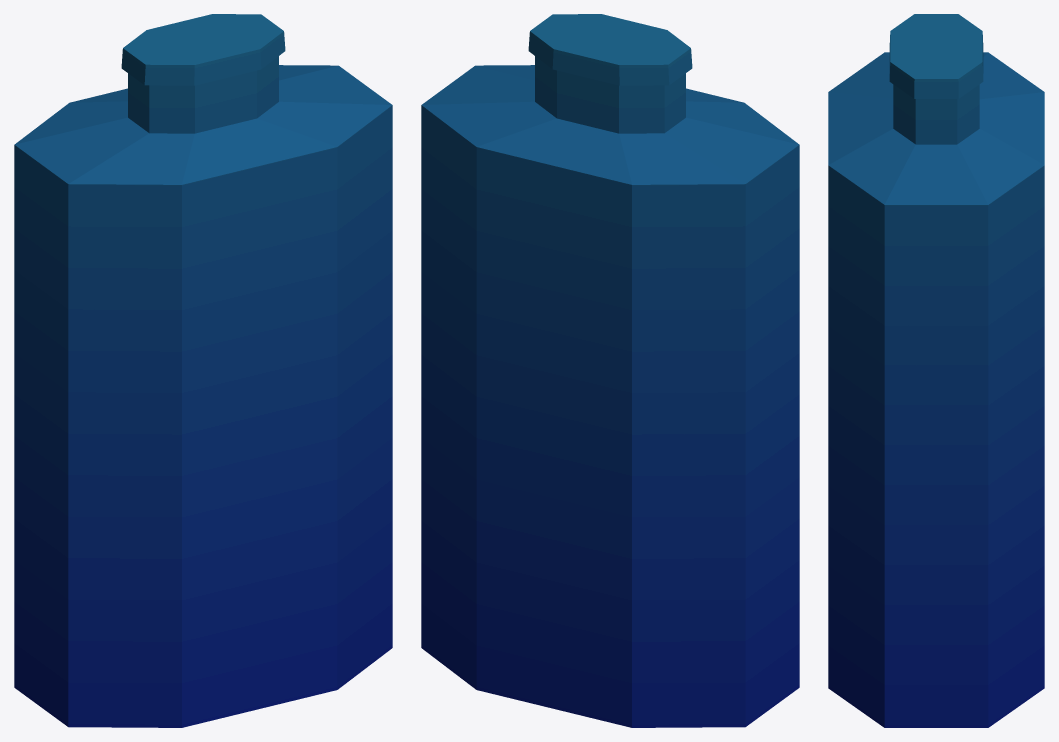
File: NormalBottle2.fbx
3 renders of one model, left to right at view 1: azimuth 30°, elevation 25°; view 2: azimuth 150°, elevation 25°; view 3: azimuth 270°, elevation 25°, orthographic. The views are drawn at different scales.
Visible parts, largest first — view 1: NormalBottle2; view 2: NormalBottle2; view 3: NormalBottle2.
Part boxes in pixels (bbox=[...]): NormalBottle2: bbox=[14, 14, 392, 727]; NormalBottle2: bbox=[421, 14, 799, 727]; NormalBottle2: bbox=[828, 14, 1044, 727].
Size of the model in its own units: 50 by 92.56 by 30.
